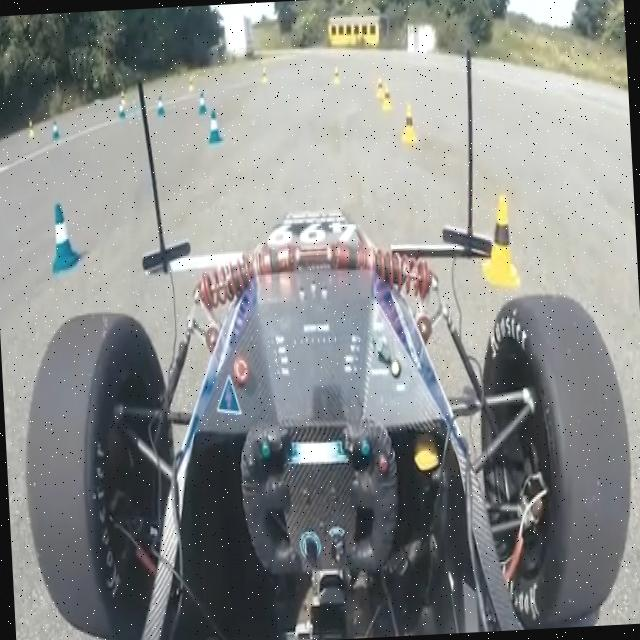blue_cone: (48, 202, 82, 275), (206, 108, 224, 144), (197, 91, 208, 116)
yellow_cone: (478, 192, 522, 290), (400, 103, 420, 145), (382, 84, 394, 110)
